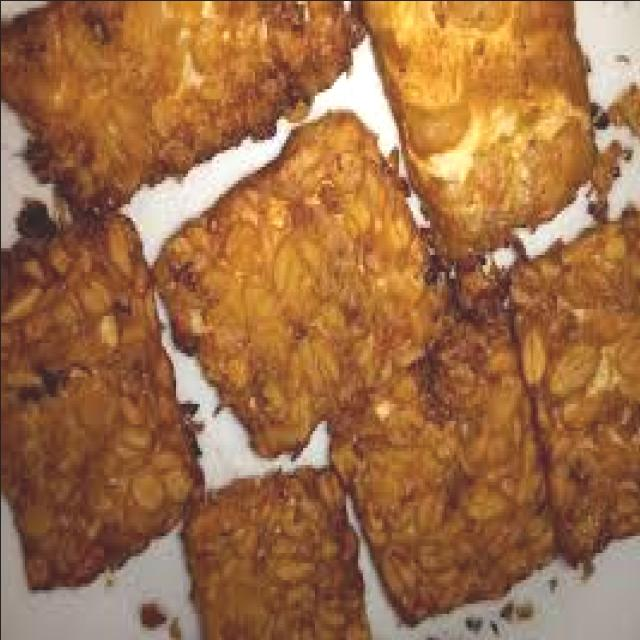tempe goreng: (149, 108, 424, 457), (0, 200, 199, 589), (331, 318, 554, 626), (357, 0, 594, 247), (508, 207, 640, 559), (180, 464, 374, 640)
